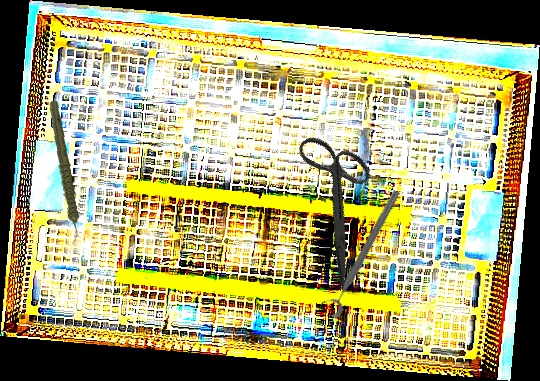Fixation Ring: (316, 184, 405, 320)
Handpiece: (38, 100, 89, 245)
Iris Scissors: (255, 119, 418, 291)
